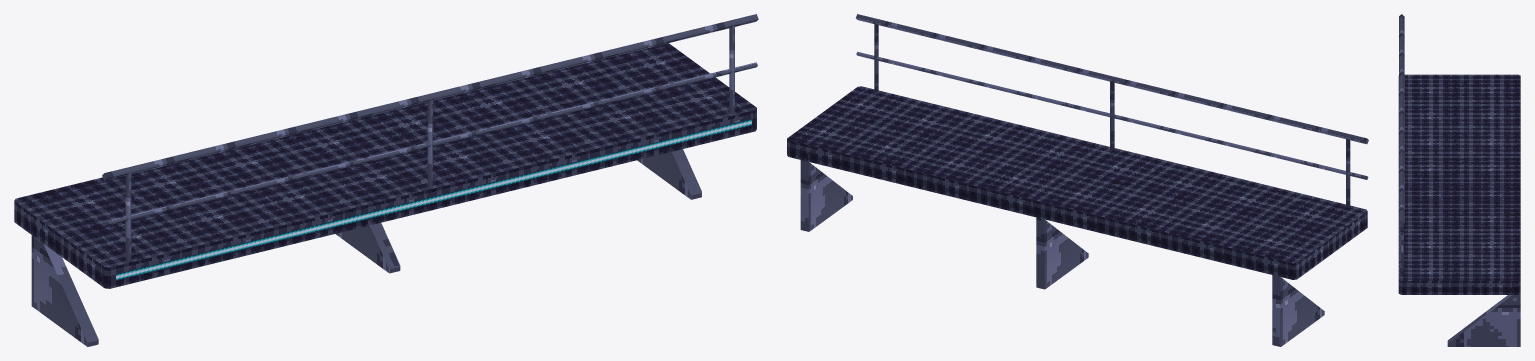
The model's file is cystreet.walkway.glb.
3 renders of one model, left to right at view 1: azimuth 30°, elevation 25°; view 2: azimuth 150°, elevation 25°; view 3: azimuth 270°, elevation 25°, orthographic. The views are drawn at different scales.
Parts seen in each view (by area): view 1: kit_deck, kit_card_neon; view 2: kit_deck; view 3: kit_deck.
Part boxes in pixels (<box>): kit_deck: <box>14,14,758,346</box>; kit_card_neon: <box>116,119,751,280</box>; kit_deck: <box>787,14,1368,346</box>; kit_deck: <box>1398,14,1520,346</box>.
Size of the model in its own units: 8 by 2.4 by 2.03.
4 materials, 4 textured.
